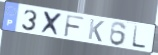3: (21, 9, 39, 32)
6: (109, 21, 128, 47)
F: (63, 14, 86, 39)
K: (87, 18, 106, 43)
L: (130, 24, 148, 50)
X: (39, 10, 65, 38)
